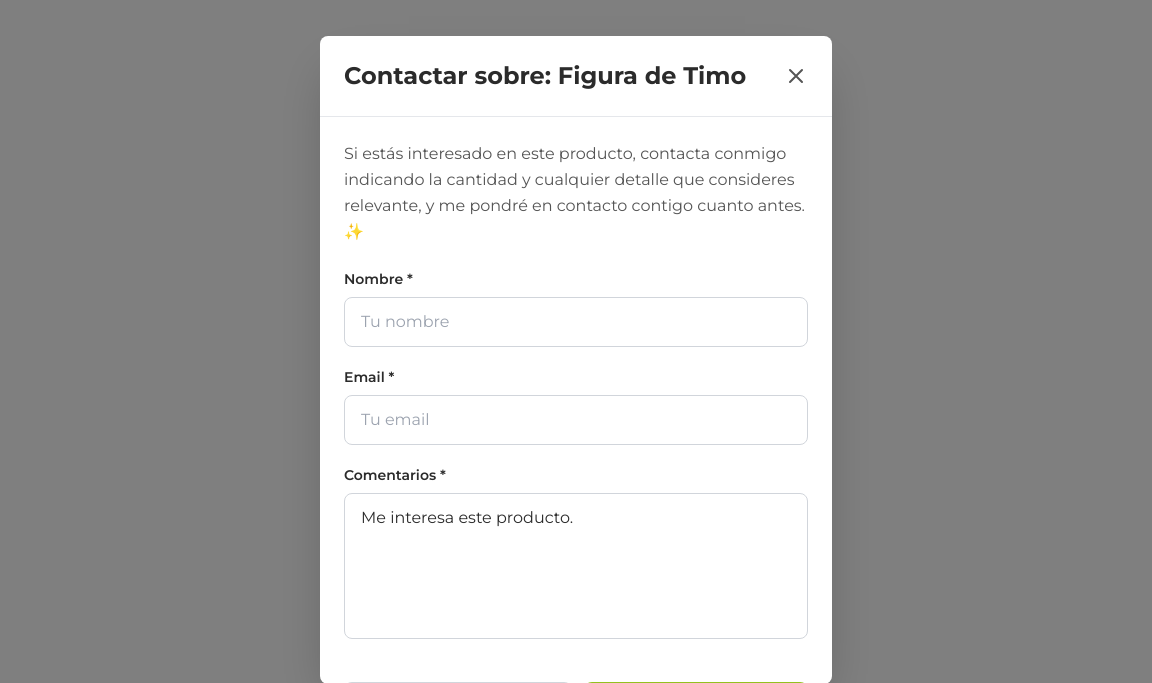
Scenario: ContactModal › Form Submission › should show success message on successful submission
Type "Juan" into the field labelled "Nombre *" at (576, 322), box [344,297,808,347]
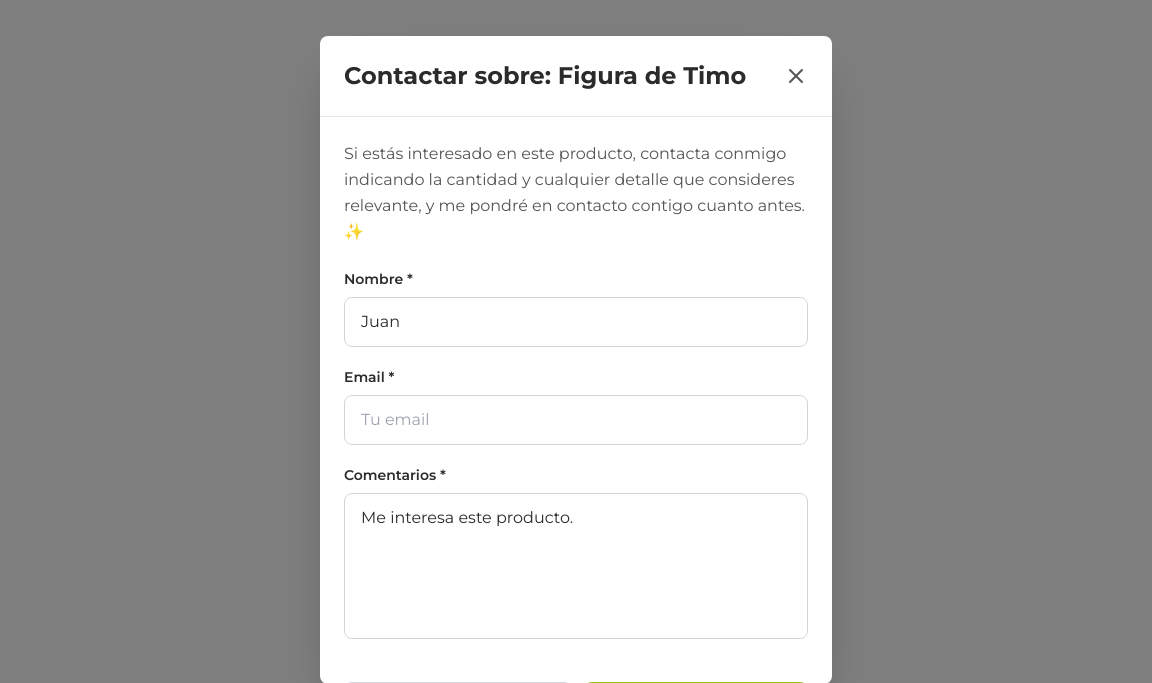
Type "juan@example.com" into the field labelled "Email *" at (576, 420), box [344,395,808,445]
(page scrolled)
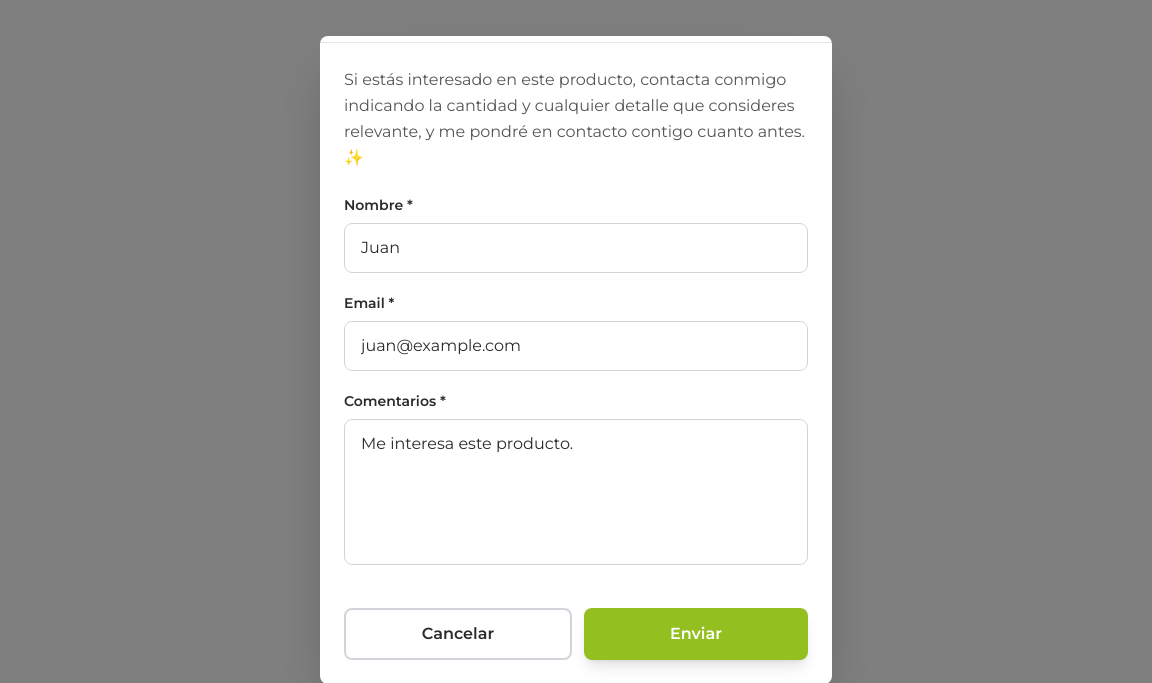
Click the button "Enviar" at (696, 634), box [584,608,808,660]
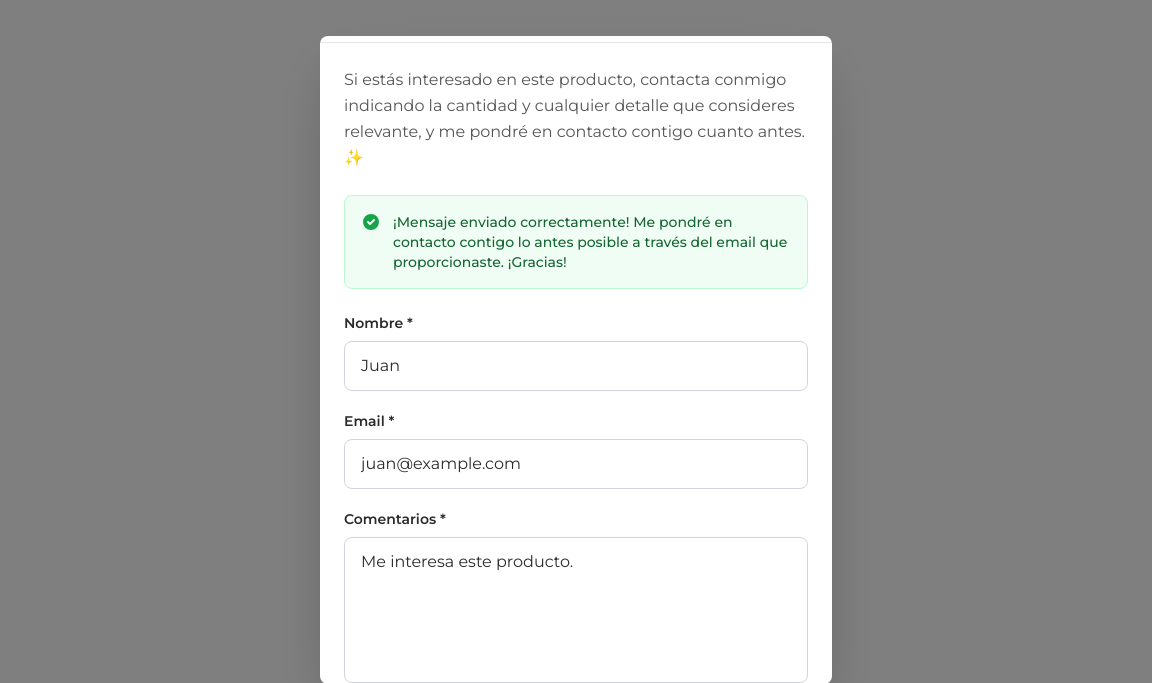
Expected: the text "¡Mensaje enviado correctamente!" is shown, [393,213,787,271]
